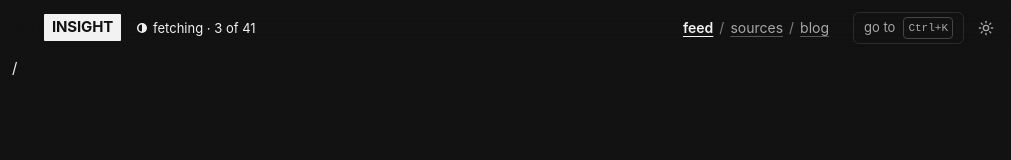
AppShell › while a run fetches, the top bar shows its progress and links to the job
Click the link "fetching · 3 of 41" at [196, 28], box [137,16,256,39]
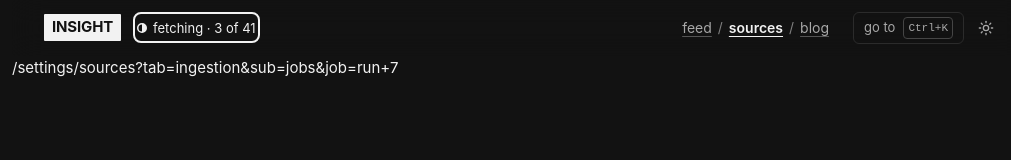
Now the text with test id "where" reads "/settings/sources?tab=ingestion&sub=jobs&job=run+7", box [12,58,398,77]
